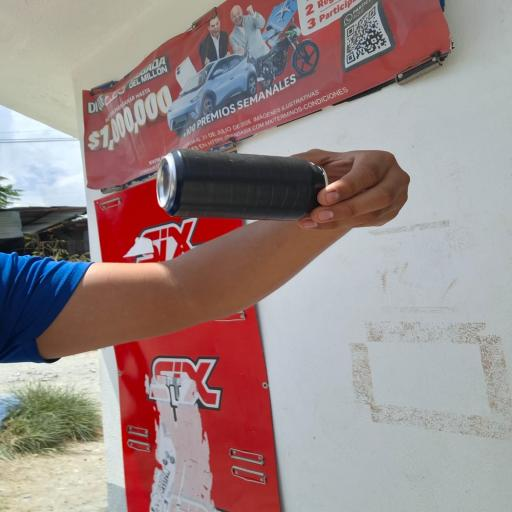LATA: (148, 143, 338, 228)
